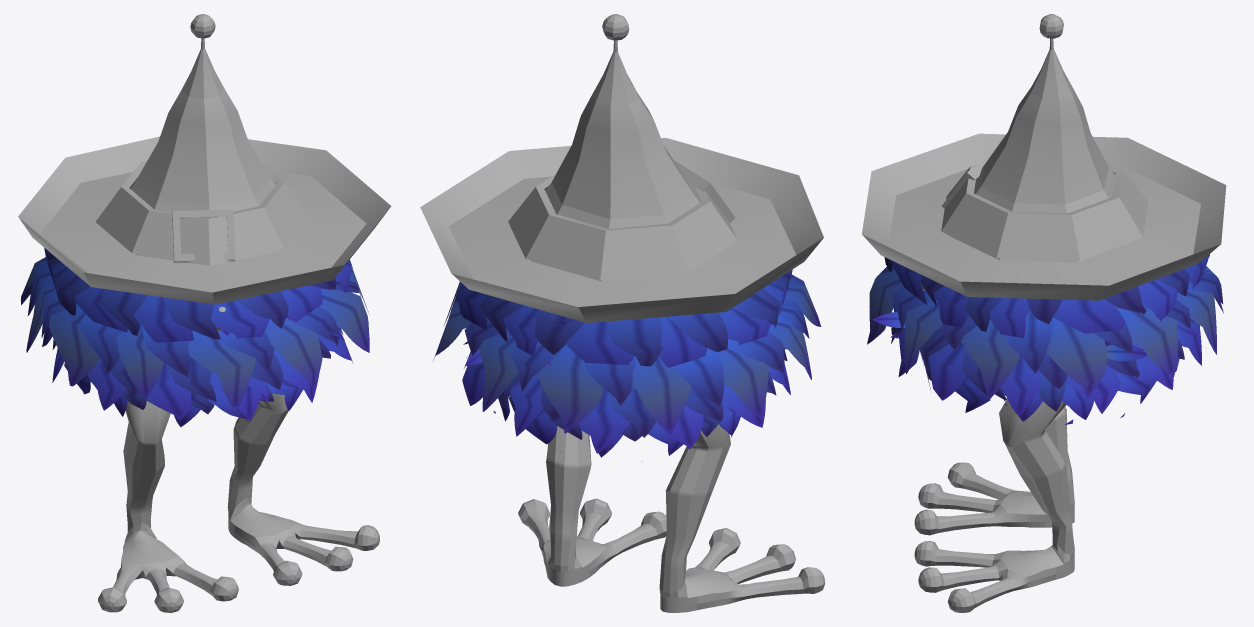
The model's file is RainWizard_V1.fbx.
The picture shows the model from 3 angles, left to right: view 1: azimuth 30°, elevation 25°; view 2: azimuth 150°, elevation 25°; view 3: azimuth 270°, elevation 25°; orthographic projection. The views are drawn at different scales.
Visible parts, largest first — view 1: WizardHat, pCylinder3, Body_Top4, Body_Top1, Belt_Hat, Body_Top3, Body_Top5, Buckle_Hat; view 2: WizardHat, pCylinder3, Body_Top4, Body_Top1, Belt_Hat, Body_Top3, Body_Top5, Buckle_Hat; view 3: WizardHat, pCylinder3, Body_Top4, Belt_Hat, Body_Top1, Body_Top3, Body_Top5.
Part boxes in pixels (x1,y1,x2,y2): WizardHat: (18, 14, 391, 304); pCylinder3: (98, 393, 379, 612); Body_Top4: (20, 257, 369, 406); Body_Top1: (44, 248, 351, 342); Belt_Hat: (95, 160, 310, 264); Body_Top3: (42, 322, 353, 421); Body_Top5: (77, 375, 302, 426); Buckle_Hat: (172, 209, 235, 262); WizardHat: (420, 14, 823, 323); pCylinder3: (518, 424, 824, 612); Body_Top4: (433, 274, 820, 434); Body_Top1: (457, 269, 792, 367); Belt_Hat: (508, 172, 737, 279); Body_Top3: (462, 347, 790, 453); Body_Top5: (493, 395, 740, 461); Buckle_Hat: (674, 160, 735, 222); WizardHat: (862, 14, 1226, 300); pCylinder3: (914, 398, 1074, 612); Body_Top4: (867, 266, 1223, 405); Belt_Hat: (941, 162, 1148, 260); Body_Top1: (884, 254, 1209, 346); Body_Top3: (891, 318, 1201, 424); Body_Top5: (920, 348, 1179, 421).
Size of the model in its own units: 3.79 by 5.83 by 3.79.
